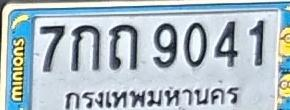0: (184, 21, 207, 67)
1: (249, 19, 265, 66)
4: (214, 20, 238, 66)
7: (40, 24, 66, 72)
9: (153, 22, 177, 68)
A01: (71, 24, 101, 70)
A22: (109, 23, 139, 70)
BKK: (61, 86, 242, 110)
